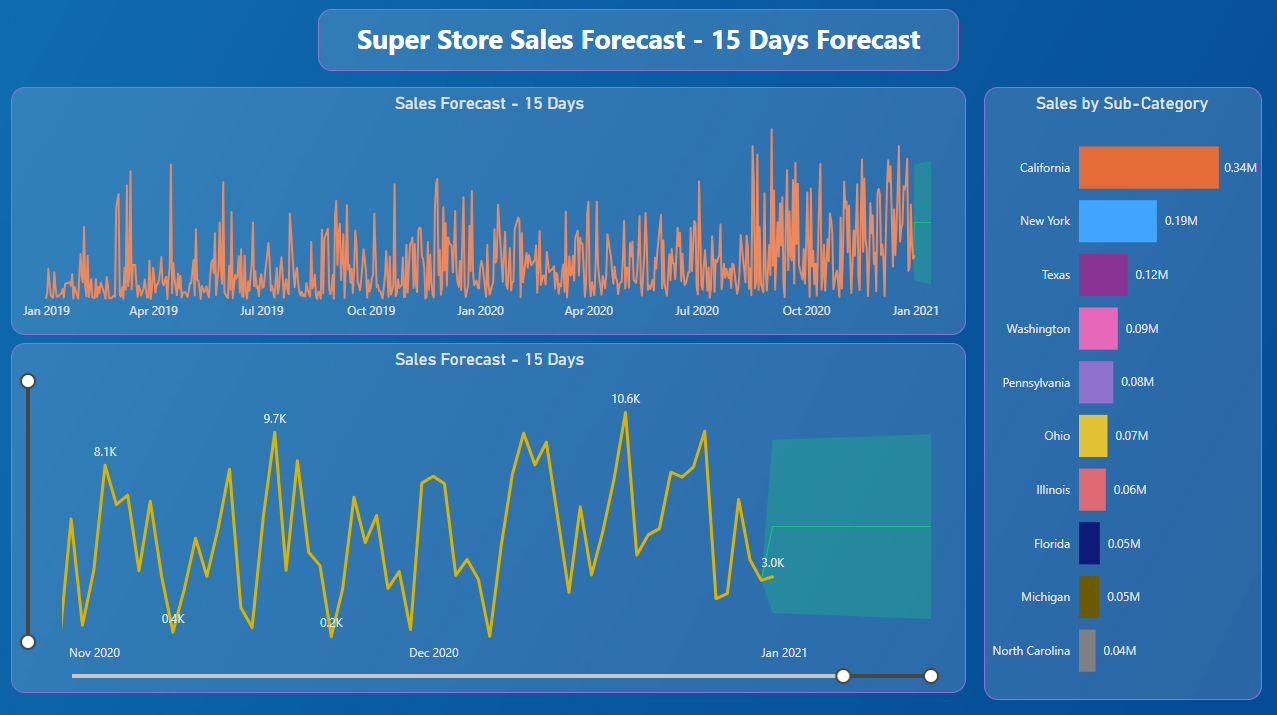

This screenshot's page, from the dashboard's own definition file:
{"tool":"powerbi","page":{"name":"Sales Forecast","canvas":[1280,720],"ordinal":1},"visuals":[{"type":"lineChart","title":"Sales Forecast - 15 Days","fields":{"Y":["Sum(SuperStore_Sales_Dataset.Sales)"],"Category":["SuperStore_Sales_Dataset.Order Date"]},"box":[13,345,955,350],"z":0},{"type":"clusteredBarChart","title":"Sales by Sub-Category","fields":{"Y":["Sum(SuperStore_Sales_Dataset.Sales)"],"Category":["SuperStore_Sales_Dataset.State"]},"box":[986,89,278,613],"z":1000},{"type":"lineChart","title":"Sales Forecast - 15 Days","fields":{"Y":["Sum(SuperStore_Sales_Dataset.Sales)"],"Category":["SuperStore_Sales_Dataset.Order Date"]},"box":[13,89,955,248],"z":2000},{"type":"textbox","box":[319.5,11,641,62],"z":3000}]}

Visuals, with their boxes in screenshot pixels (x1, y1, x2, y2), scaled from the page's 1280x720 canvas onto the 1277x715 screenshot:
"Sales Forecast - 15 Days" lineChart: bbox=(13, 343, 966, 690)
"Sales by Sub-Category" clusteredBarChart: bbox=(984, 88, 1261, 697)
"Sales Forecast - 15 Days" lineChart: bbox=(13, 88, 966, 335)
textbox: bbox=(319, 11, 958, 72)
